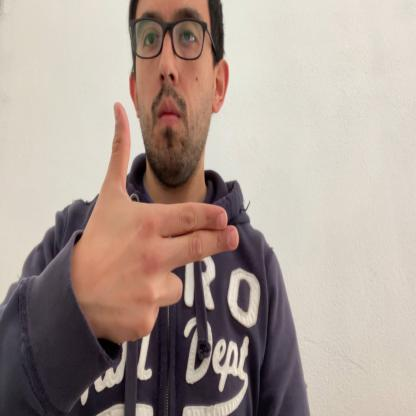H: (84, 99, 240, 344)
